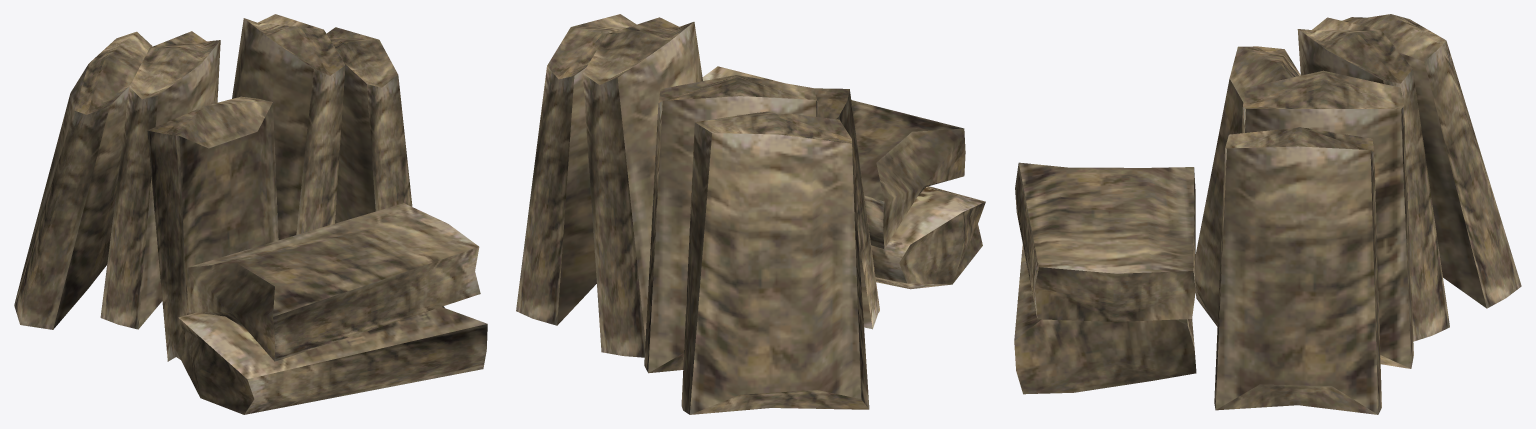
File: sack03.glb
The picture shows the model from 3 angles, left to right: view 1: azimuth 30°, elevation 25°; view 2: azimuth 150°, elevation 25°; view 3: azimuth 270°, elevation 25°; orthographic projection. The views are drawn at different scales.
Parts seen in each view (by area): view 1: _sack03; view 2: _sack03; view 3: _sack03.
Part boxes in pixels (x1,y1,x2,y2): _sack03: (14,14,487,414); _sack03: (516,14,985,414); _sack03: (1014,14,1521,414).
Bounding box in the file's own units: 1.05 × 0.8027 × 1.24.
Materials: 1 (1 with a texture image).
